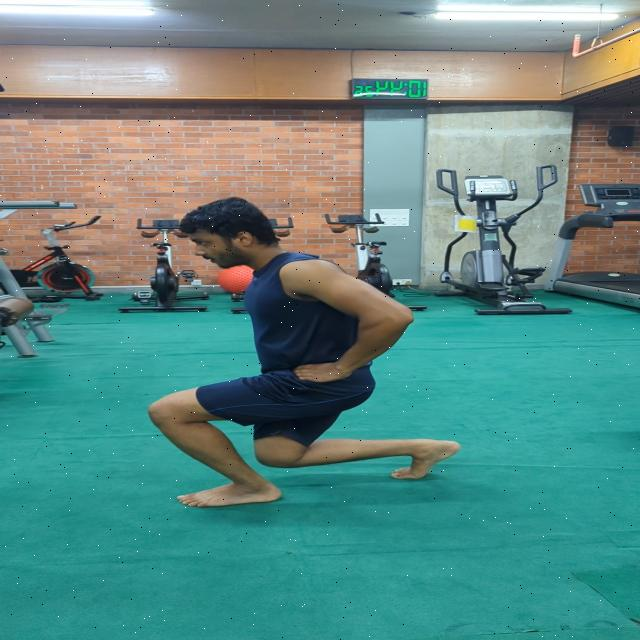Normal_Lunges: (146, 192, 461, 519)
